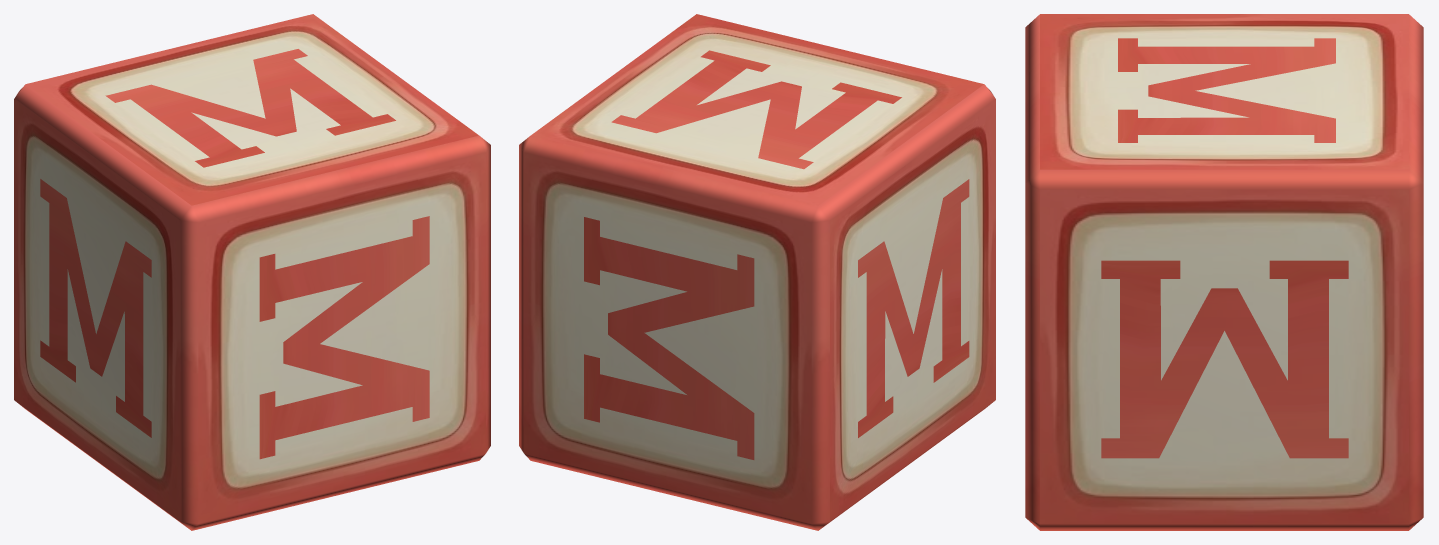
File: CubeM.glb
3 renders of one model, left to right at view 1: azimuth 30°, elevation 25°; view 2: azimuth 150°, elevation 25°; view 3: azimuth 270°, elevation 25°, orthographic. The views are drawn at different scales.
Visible parts, largest first — view 1: CubeM; view 2: CubeM; view 3: CubeM.
Part boxes in pixels (x1,y1,x2,y2): CubeM: [14, 14, 490, 530]; CubeM: [519, 14, 995, 530]; CubeM: [1025, 14, 1423, 530].
Size of what is drawn, in the model's own units: 0.513 by 0.513 by 0.513.
1 material, 1 textured.
